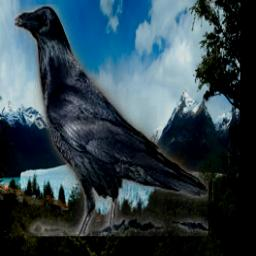Crow: (15, 4, 208, 236)
